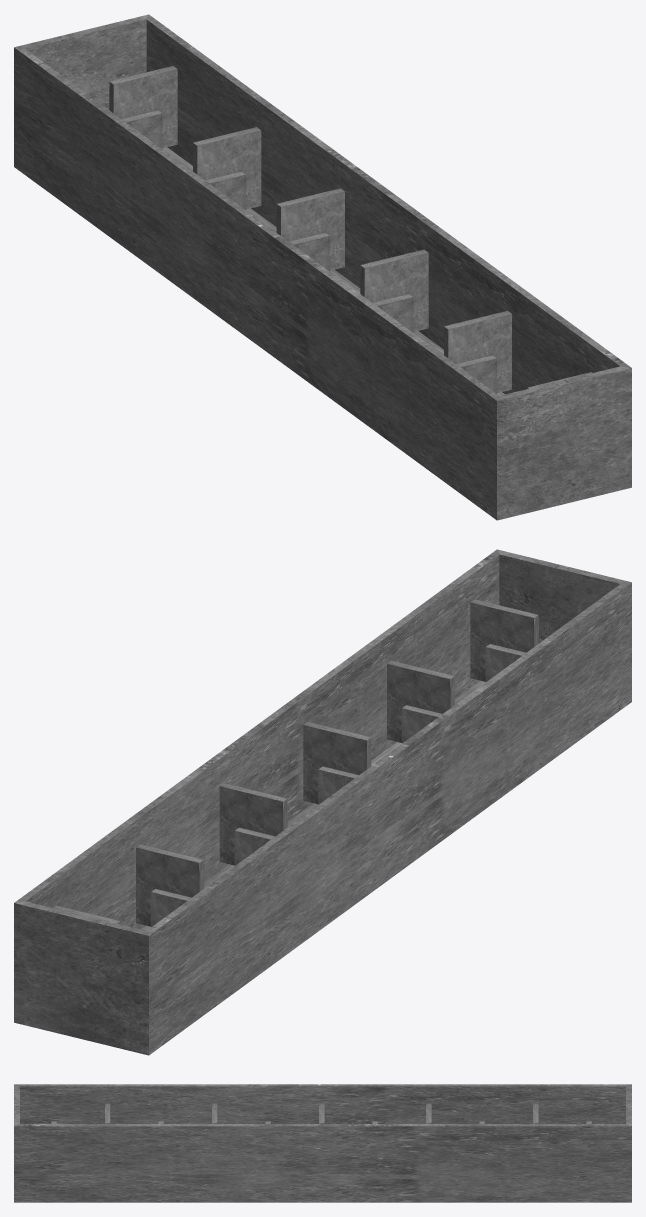
Rendered from chloronation.fbx.
3 views of the same model, one above another, from view 1: azimuth 30°, elevation 25°; view 2: azimuth 150°, elevation 25°; view 3: azimuth 270°, elevation 25° (orthographic). The views are drawn at different scales.
Parts seen in each view (by area): view 1: chlorination; view 2: chlorination; view 3: chlorination.
Boxes of the visible parts, x1,y1,x2,y2 form: chlorination: [14, 14, 631, 520]; chlorination: [14, 549, 631, 1055]; chlorination: [14, 1084, 631, 1202].
Size of the model in its own units: 2.06 by 1.75 by 12.79.
